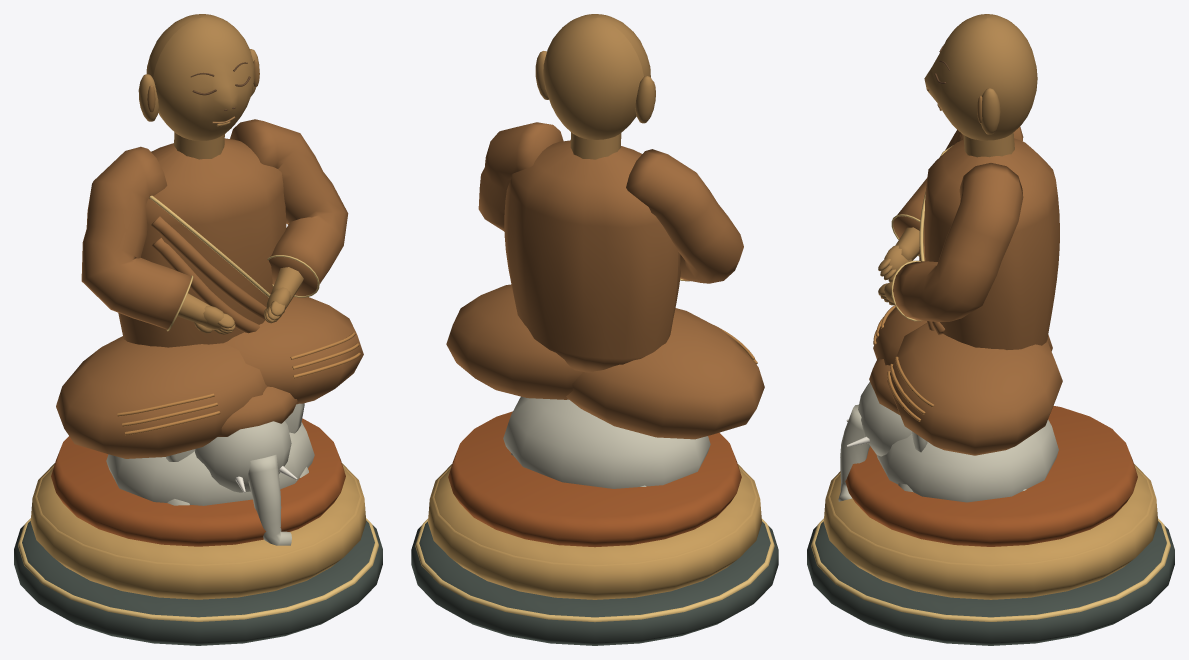
The model's file is arhat_12_lod1.glb.
The picture shows the model from 3 angles, left to right: view 1: azimuth 30°, elevation 25°; view 2: azimuth 150°, elevation 25°; view 3: azimuth 270°, elevation 25°; orthographic projection.
Visible parts, largest first — view 1: arhat_12_ArhatDrapery, arhat_12_AntiqueGold, arhat_12_CarvedPlinth, arhat_12_WarmBronze, arhat_12_SaffronDrapery, arhat_12_ElephantIvory, arhat_12_RaisedGoldBorders, arhat_12_DraperyFoldHighlights; view 2: arhat_12_ArhatDrapery, arhat_12_SaffronDrapery, arhat_12_AntiqueGold, arhat_12_CarvedPlinth, arhat_12_WarmBronze, arhat_12_ElephantIvory, arhat_12_RaisedGoldBorders; view 3: arhat_12_ArhatDrapery, arhat_12_AntiqueGold, arhat_12_SaffronDrapery, arhat_12_CarvedPlinth, arhat_12_WarmBronze, arhat_12_ElephantIvory, arhat_12_RaisedGoldBorders, arhat_12_DraperyFoldHighlights.
Part boxes in pixels (x1,y1,x2,y2): arhat_12_ArhatDrapery: (56, 119, 363, 458); arhat_12_AntiqueGold: (30, 463, 366, 599); arhat_12_CarvedPlinth: (14, 521, 382, 645); arhat_12_WarmBronze: (138, 14, 303, 334); arhat_12_SaffronDrapery: (51, 418, 345, 546); arhat_12_ElephantIvory: (106, 403, 314, 545); arhat_12_RaisedGoldBorders: (18, 195, 378, 621); arhat_12_DraperyFoldHighlights: (117, 332, 360, 435); arhat_12_ArhatDrapery: (446, 122, 764, 439); arhat_12_SaffronDrapery: (448, 411, 741, 547); arhat_12_AntiqueGold: (428, 464, 761, 599); arhat_12_CarvedPlinth: (411, 521, 778, 645); arhat_12_WarmBronze: (535, 14, 655, 159); arhat_12_ElephantIvory: (503, 396, 710, 488); arhat_12_RaisedGoldBorders: (415, 278, 774, 622); arhat_12_ArhatDrapery: (869, 126, 1062, 455); arhat_12_AntiqueGold: (823, 464, 1158, 599); arhat_12_SaffronDrapery: (845, 405, 1137, 546); arhat_12_CarvedPlinth: (807, 521, 1174, 645); arhat_12_WarmBronze: (878, 14, 1037, 305); arhat_12_ElephantIvory: (838, 382, 1058, 502); arhat_12_RaisedGoldBorders: (811, 145, 1170, 621); arhat_12_DraperyFoldHighlights: (873, 305, 933, 421).
Size of the model in its own units: 0.92 by 1.53 by 0.92.
